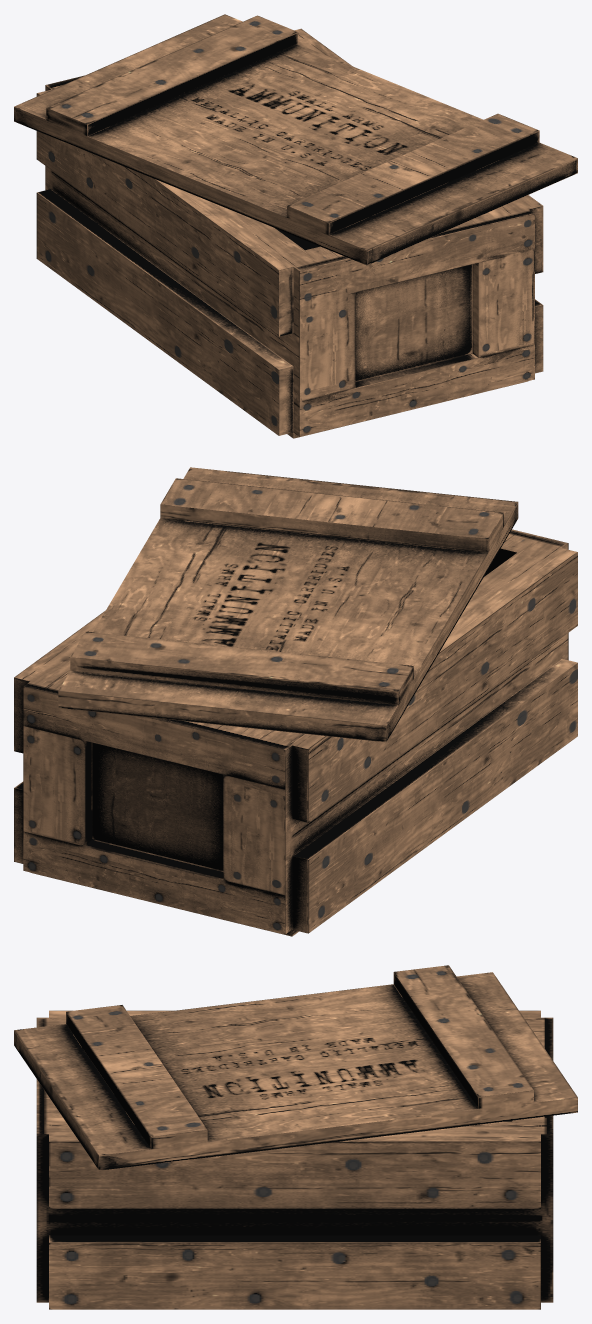
The model's file is WoodenAmmoCrate.fbx.
3 renders of one model, top to bottom at view 1: azimuth 30°, elevation 25°; view 2: azimuth 150°, elevation 25°; view 3: azimuth 270°, elevation 25°, orthographic. The views are drawn at different scales.
Parts seen in each view (by area): view 1: Cube.003, Cube.000; view 2: Cube.003, Cube.000; view 3: Cube.003, Cube.000.
Boxes of the visible parts, left/top/right/bottom form: Cube.003: left=36, top=28, right=543, bottom=438; Cube.000: left=14, top=14, right=577, bottom=265; Cube.003: left=14, top=479, right=577, bottom=936; Cube.000: left=58, top=467, right=518, bottom=742; Cube.003: left=36, top=1010, right=553, bottom=1309; Cube.000: left=14, top=965, right=577, bottom=1170.
Size of the model in its own units: 358 by 184 by 465.
